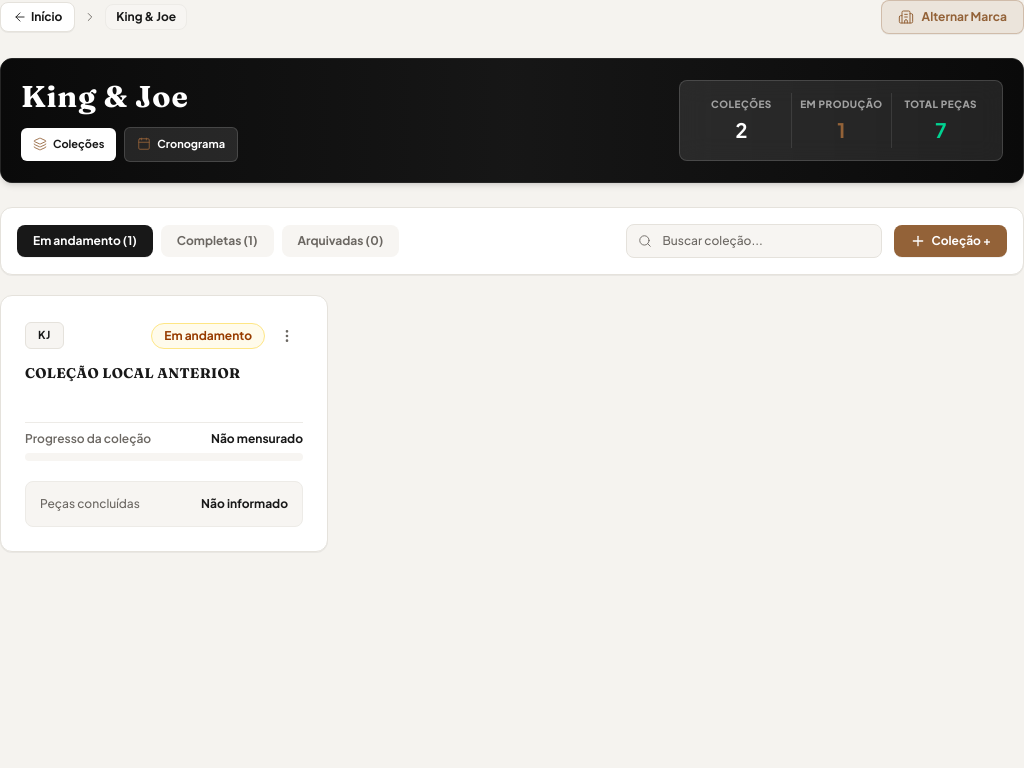
Test: Nova base somente para próximas coleções do portal › marca somente a nova coleção como elegível ao histórico, preservando as anteriores
Check: the button "Completas (1)" is shown, box [161, 224, 274, 256]
Click the button "Coleção +" at [950, 240], box [894, 224, 1007, 256]
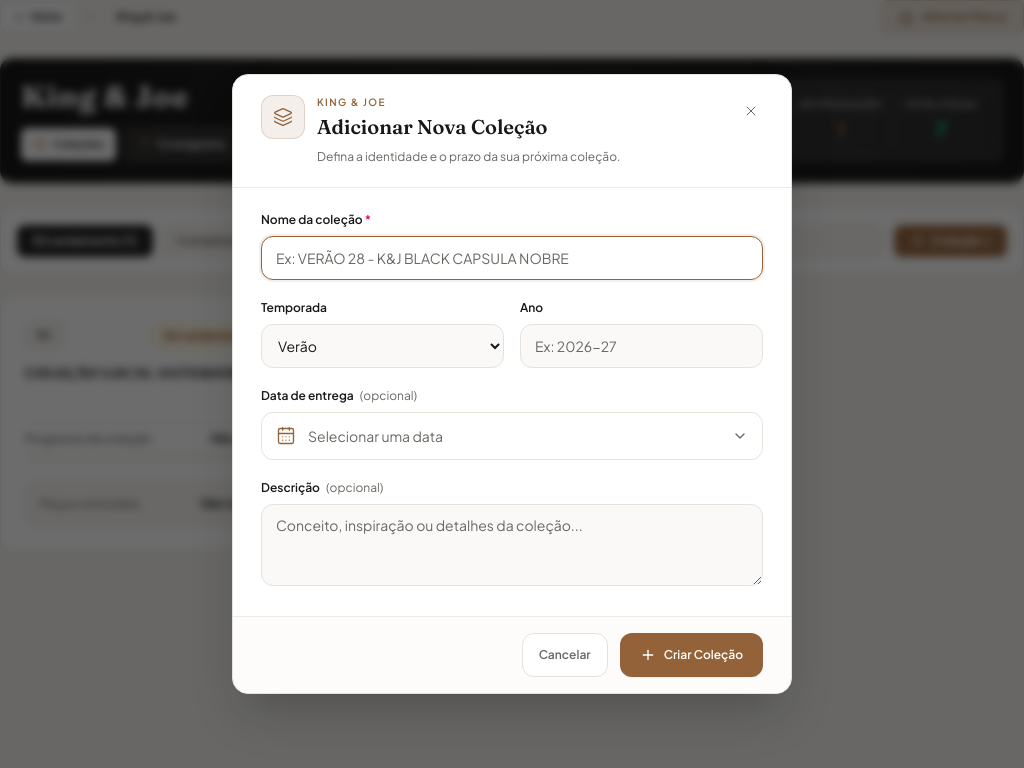
Type "Coleção nova teste" into the field with placeholder "Ex: VERÃO 28 - K&J BLACK CAPSULA NOBRE" at [512, 258], box [261, 236, 763, 280]
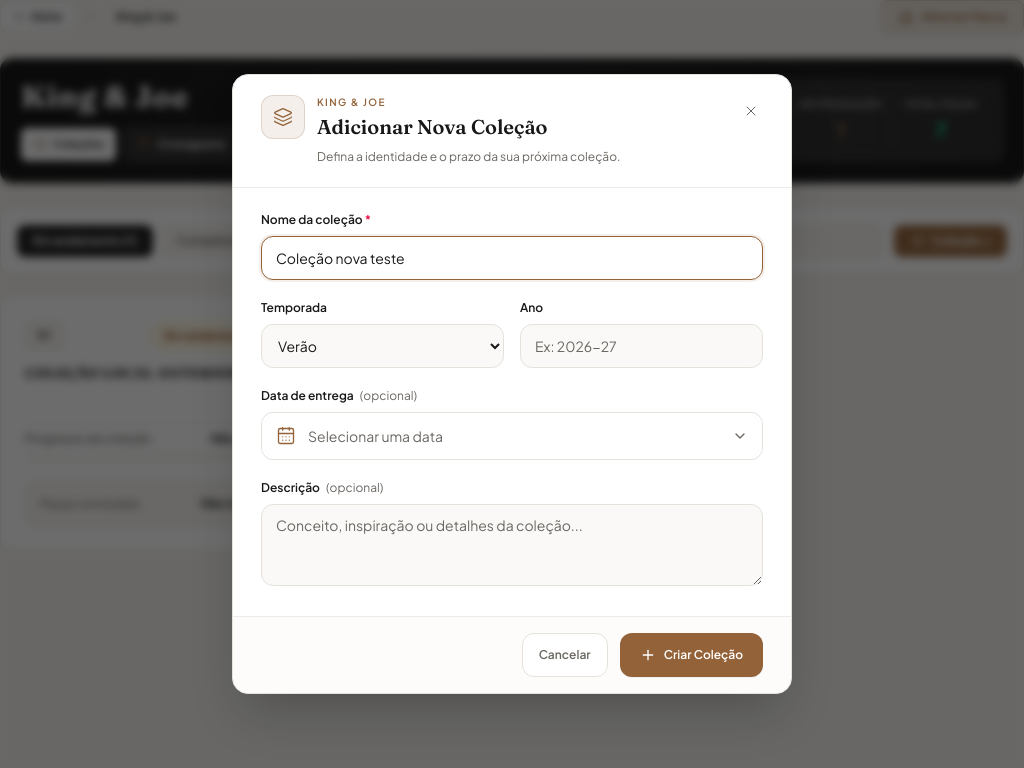
Submit the form, box [233, 188, 791, 693]
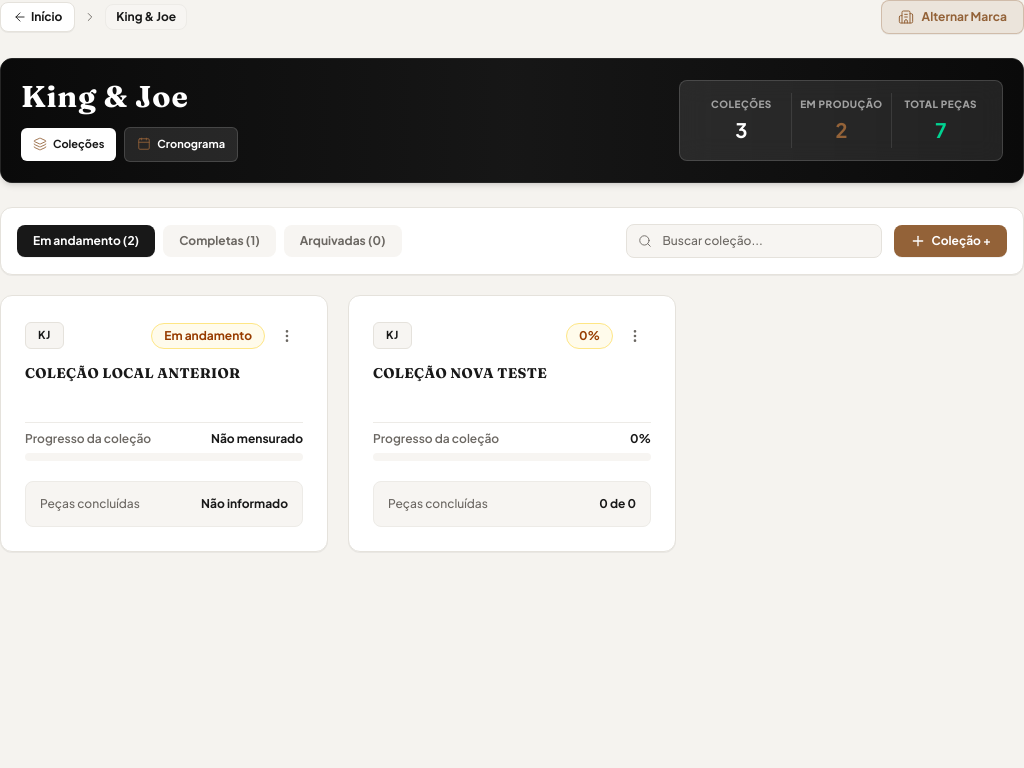
Check: the dialog is gone
